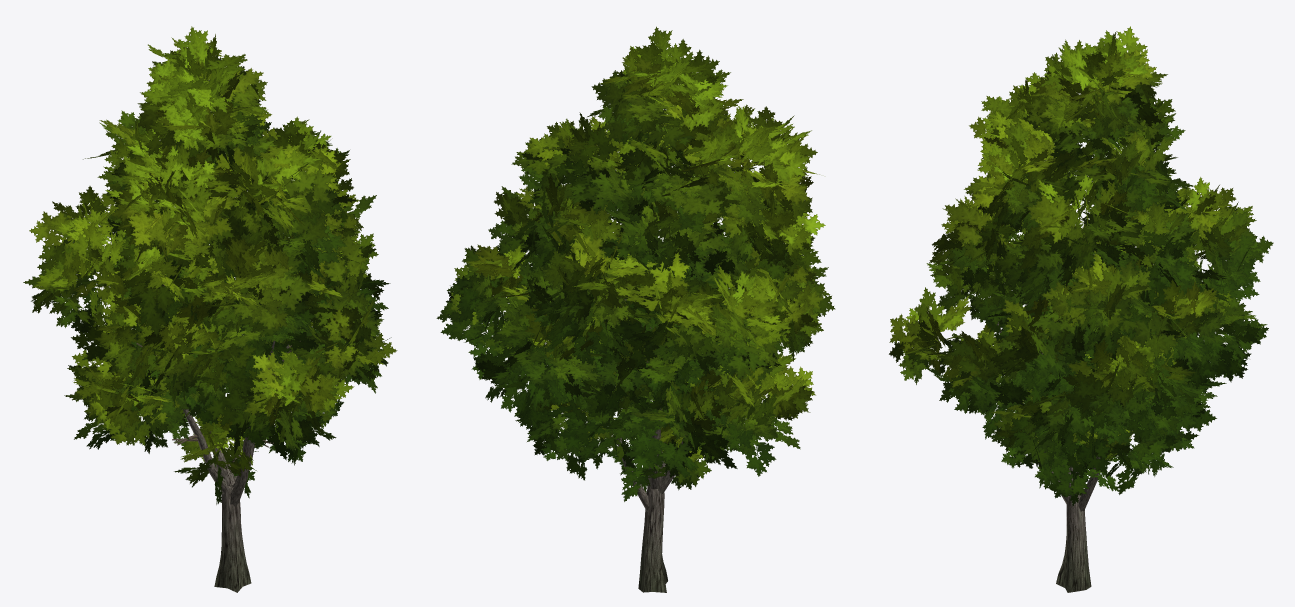
File: maple-medium-mid.glb
3 views of the same model, side by side, from view 1: azimuth 30°, elevation 25°; view 2: azimuth 150°, elevation 25°; view 3: azimuth 270°, elevation 25° (orthographic). The views are drawn at different scales.
Visible parts, largest first — view 1: Leaves, Bark; view 2: Leaves, Bark; view 3: Leaves, Bark.
Boxes of the visible parts, x1,y1,x2,y2 form: Leaves: (23, 26, 397, 504); Bark: (136, 284, 300, 592); Leaves: (436, 26, 835, 501); Bark: (617, 299, 718, 592); Leaves: (889, 26, 1273, 506); Bark: (997, 322, 1134, 592).
Size of the model in its own units: 6.58 by 10.02 by 6.65.
Materials: 2 (2 with a texture image).
